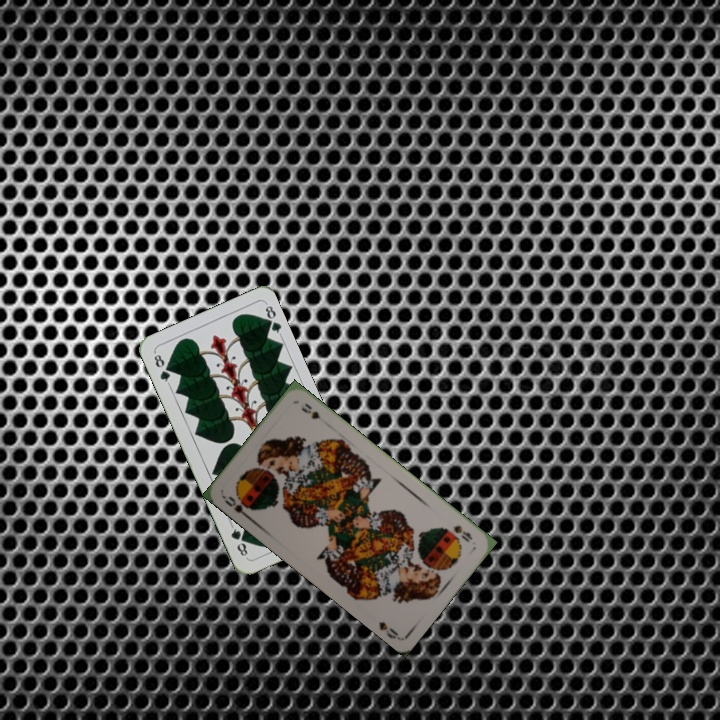G8: (150, 349, 173, 387)
SO: (219, 492, 256, 522), (449, 521, 475, 545)
